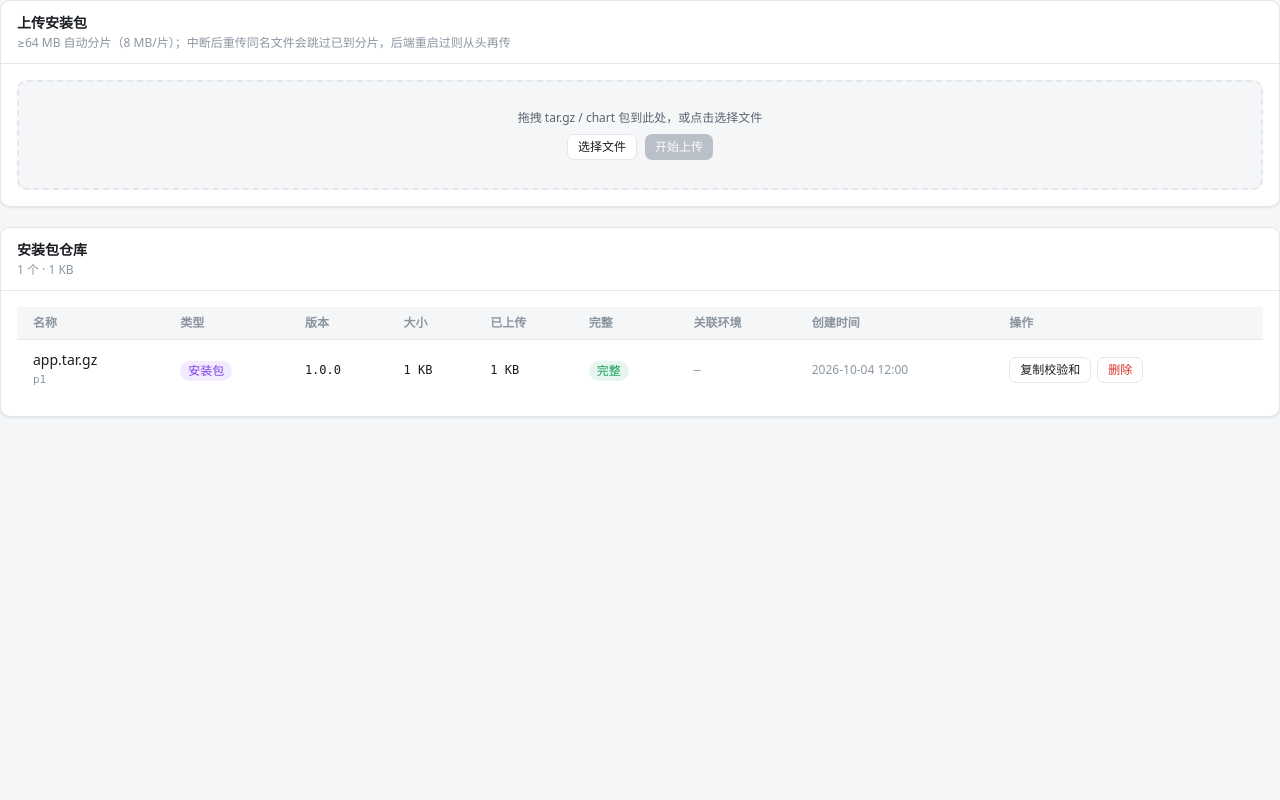
Test case: Packages 页 › 复制成功：写入 checksum 并给成功 toast
Click the button "复制校验和": x=1050, y=370 [1009,357,1091,383]
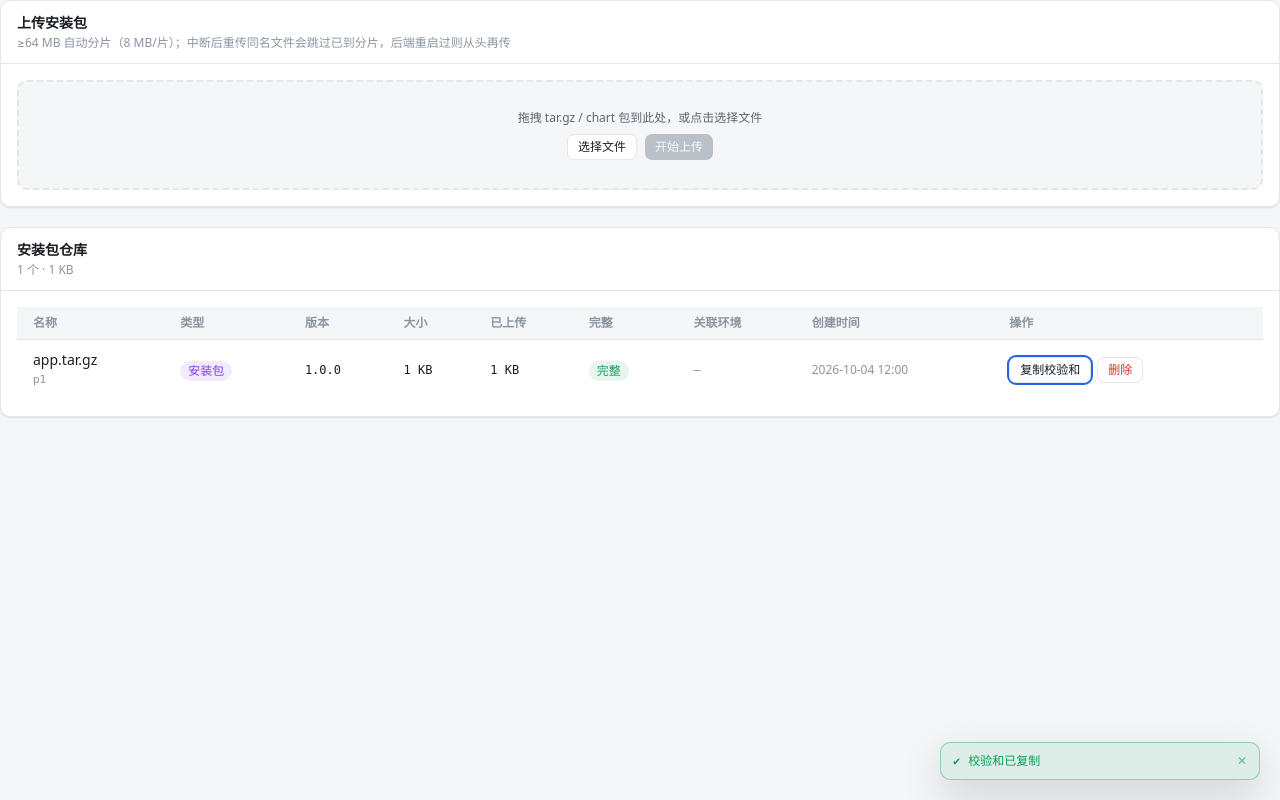
Expected: the text "校验和已复制" is shown, [968,752,1040,769]
